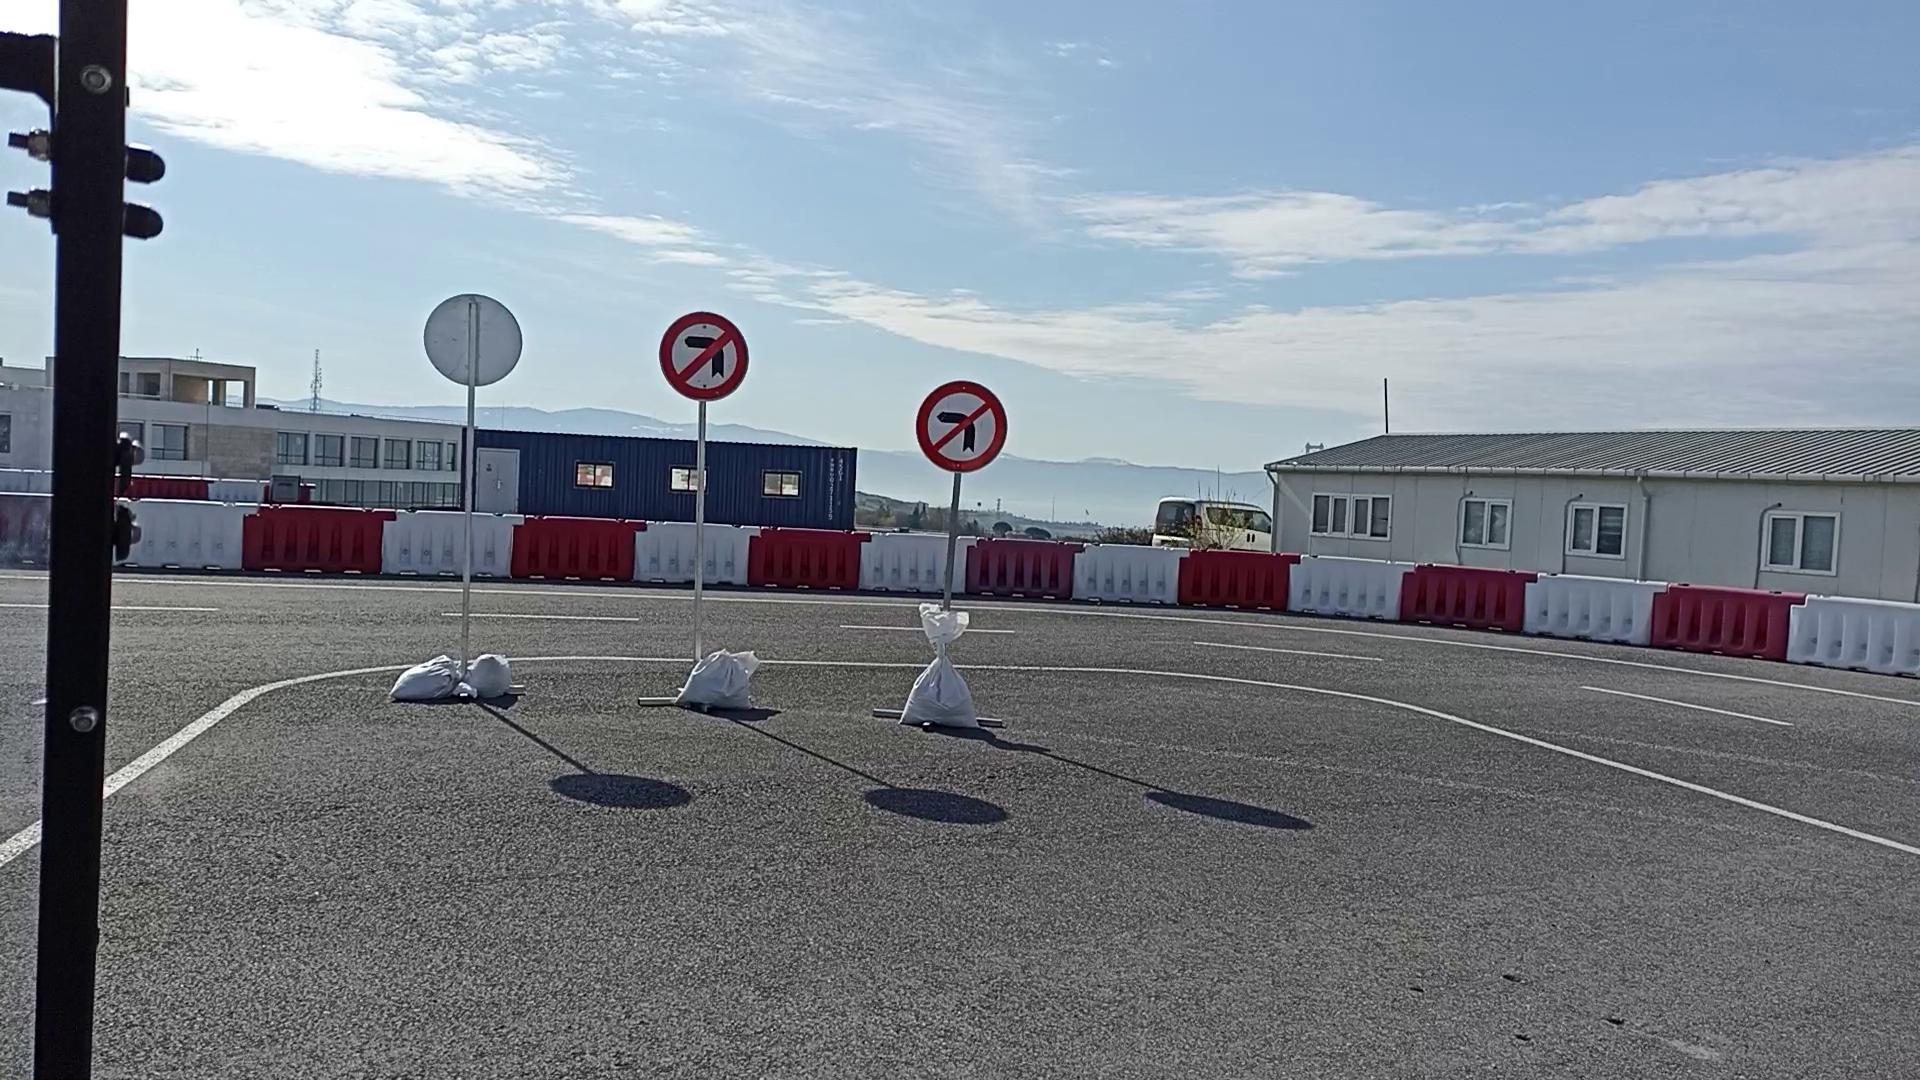noleft: (914, 378, 1009, 475), (657, 310, 752, 404)
